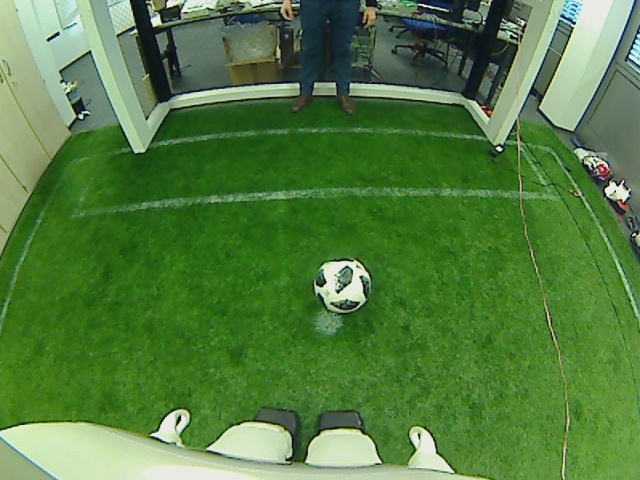ball: (311, 258, 374, 316)
